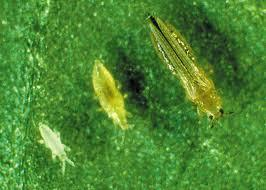Thrips: (146, 8, 234, 133), (84, 56, 134, 134), (35, 119, 78, 167)
